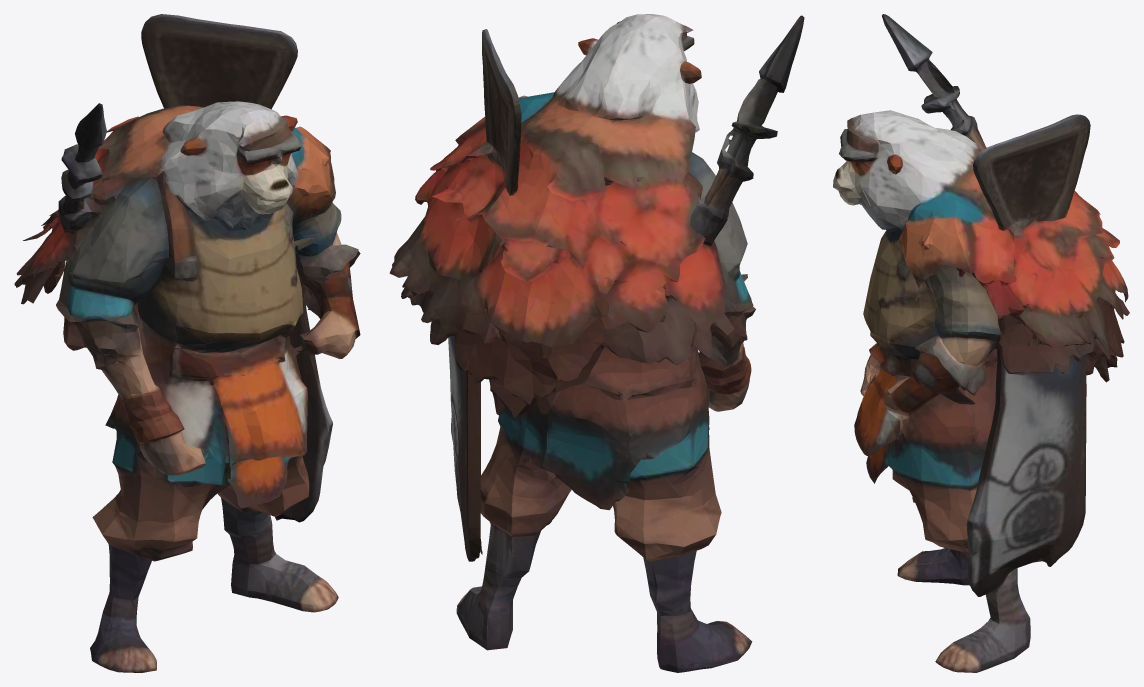
File: anime_prehist_warrior.glb
The picture shows the model from 3 angles, left to right: view 1: azimuth 30°, elevation 25°; view 2: azimuth 150°, elevation 25°; view 3: azimuth 270°, elevation 25°; orthographic projection. The views are drawn at different scales.
Parts seen in each view (by area): view 1: geometry_0; view 2: geometry_0; view 3: geometry_0.
Part boxes in pixels (box(x1,y1,x2,y2)): geometry_0: box(14, 14, 360, 672); geometry_0: box(389, 14, 804, 672); geometry_0: box(833, 14, 1129, 672).
Size of the model in its own units: 0.5303 by 1 by 0.5007.
1 material, 1 textured.
